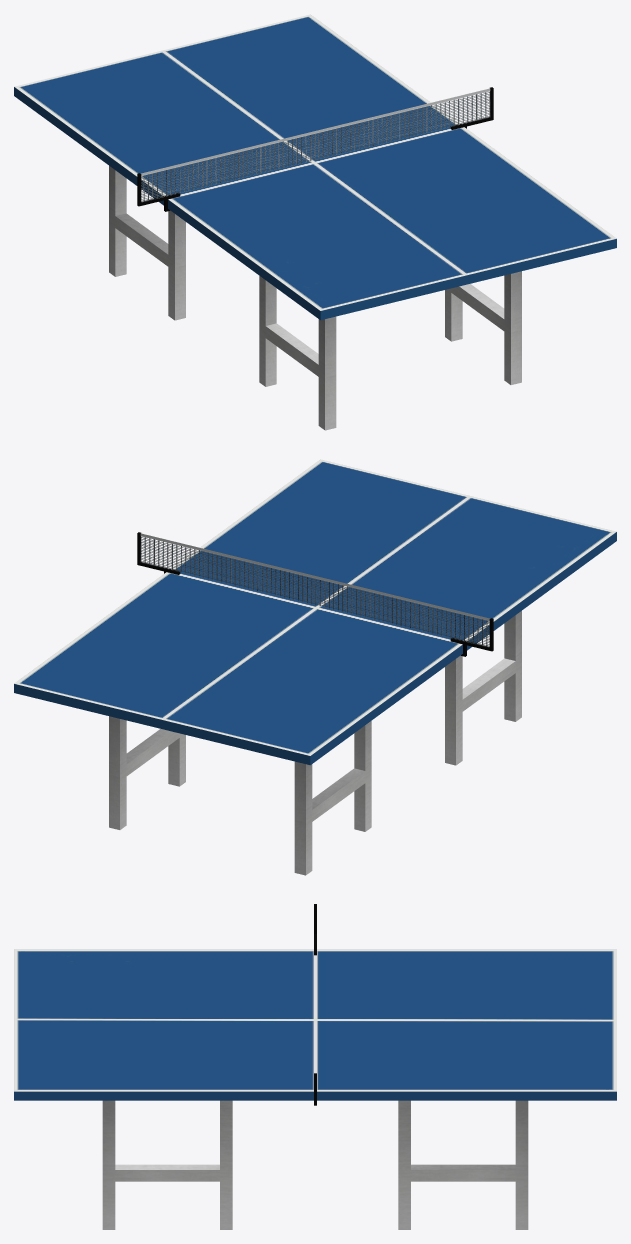
3 renders of one model, top to bottom at view 1: azimuth 30°, elevation 25°; view 2: azimuth 150°, elevation 25°; view 3: azimuth 270°, elevation 25°, orthographic.
Visible parts, largest first — view 1: TableTenis; view 2: TableTenis; view 3: TableTenis.
Boxes of the visible parts, left/top/right/bottom form: TableTenis: left=14, top=14, right=616, bottom=430; TableTenis: left=14, top=459, right=616, bottom=875; TableTenis: left=14, top=904, right=616, bottom=1229.
Size of the model in its own units: 9.25 by 4.89 by 13.84.
Materials: 2 (2 with a texture image).
